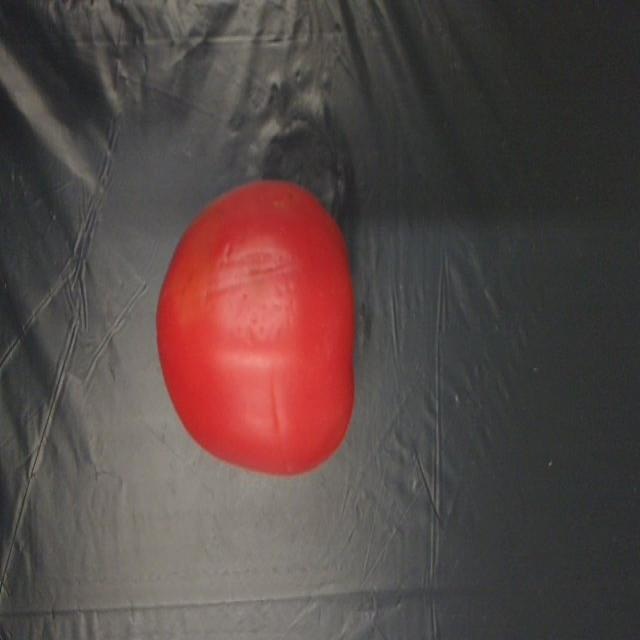kirmizi: (157, 168, 363, 474)
